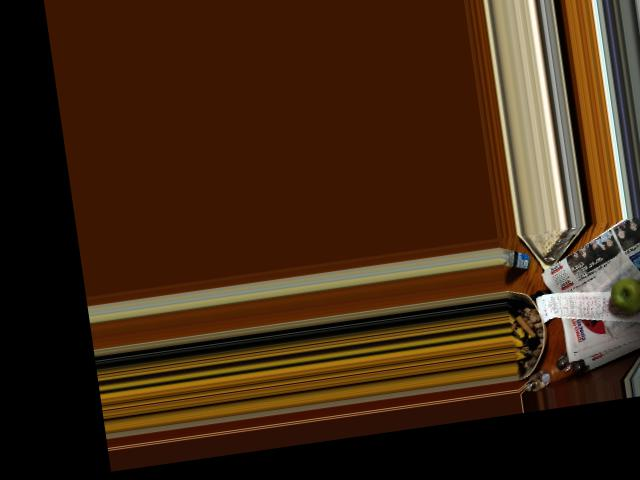apple: (606, 273, 640, 317)
